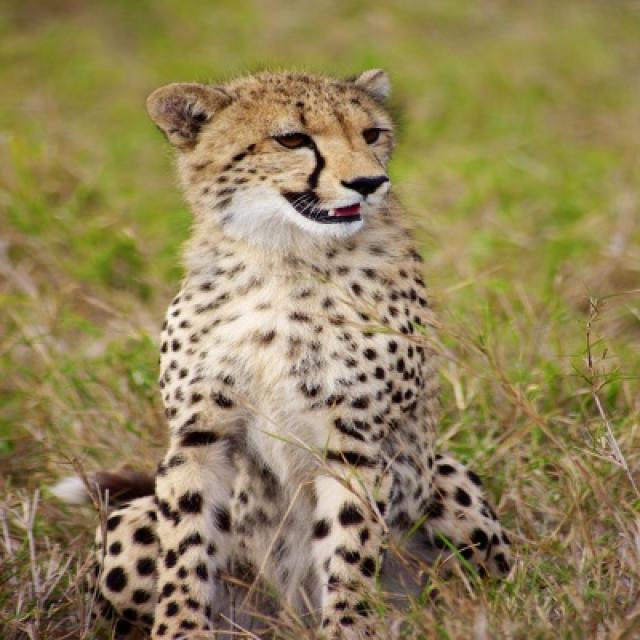Cheetah: (50, 61, 524, 638)
